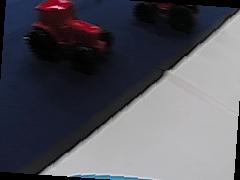Tracktor: (25, 1, 116, 61), (135, 1, 194, 28)
